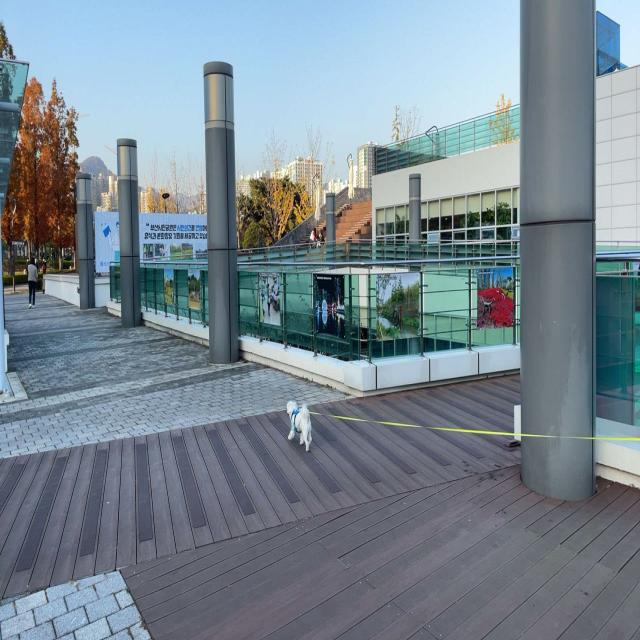Dog: (286, 400, 313, 454)
